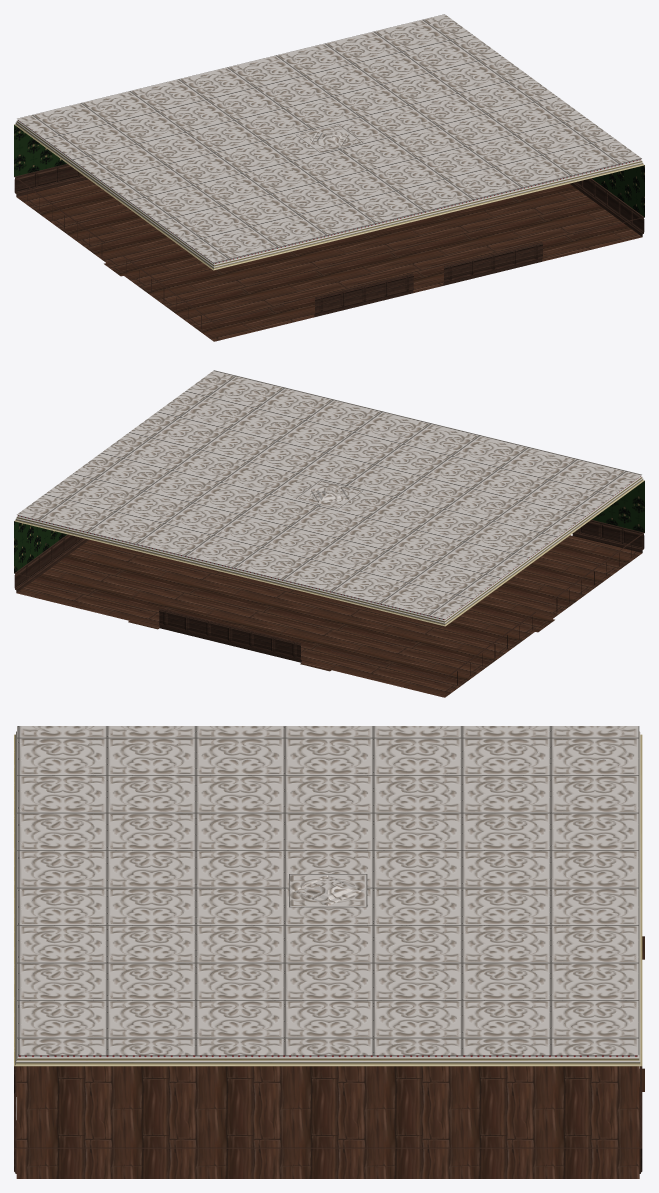
Rendered from Dining_Room_FINAL.fbx.
3 renders of one model, top to bottom at view 1: azimuth 30°, elevation 25°; view 2: azimuth 150°, elevation 25°; view 3: azimuth 270°, elevation 25°, orthographic. The views are drawn at different scales.
Parts seen in each view (by area): view 1: Dining_Room; view 2: Dining_Room; view 3: Dining_Room.
Boxes of the visible parts, x1=… form: Dining_Room: x1=14, y1=14, x2=644, y2=341; Dining_Room: x1=14, y1=370, x2=644, y2=697; Dining_Room: x1=14, y1=726, x2=644, y2=1178.
Bounding box in the file's own units: 1998 × 358 × 1601.
